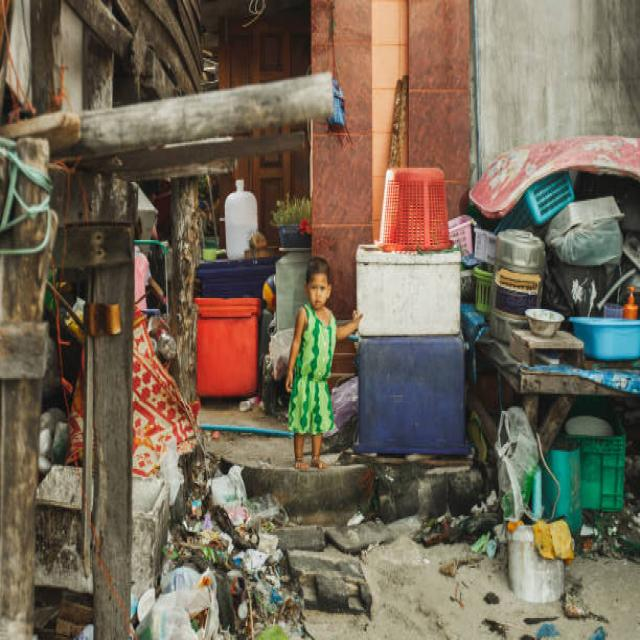trash: (134, 566, 223, 634)
